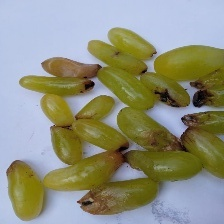grapes: (41, 16, 199, 186)
